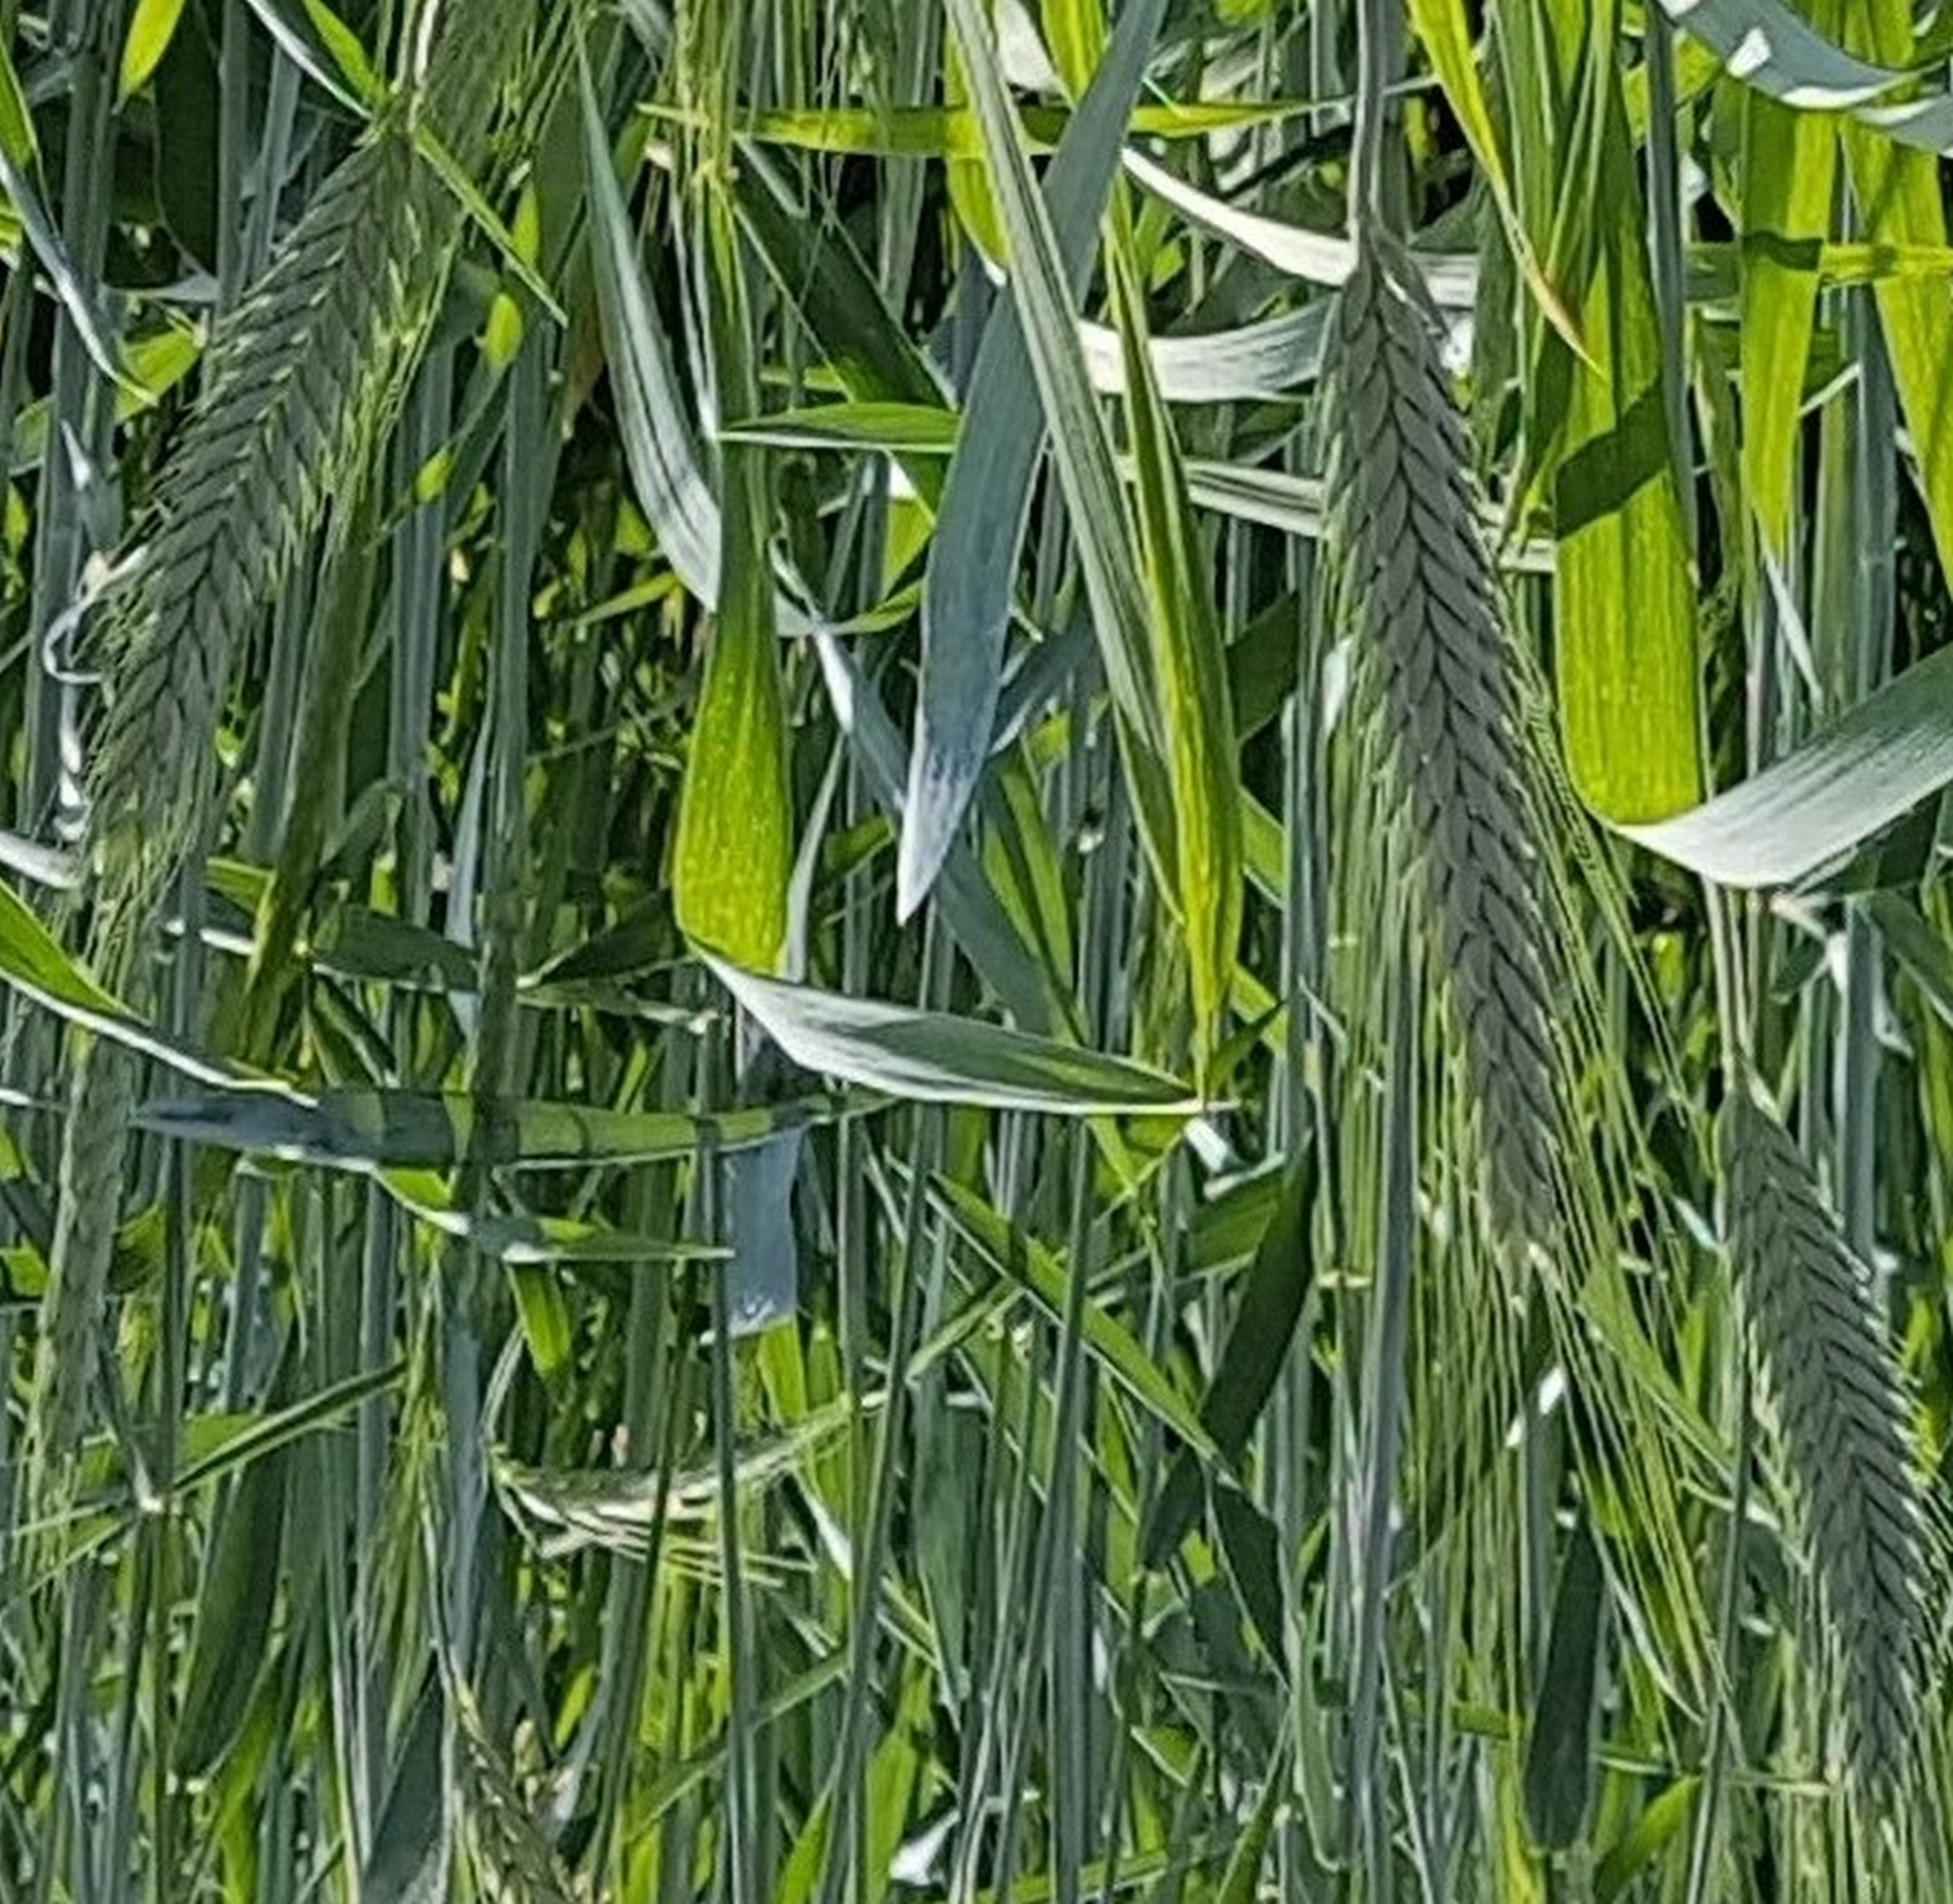Healthy Wheat: (1296, 234, 1632, 1217), (94, 124, 448, 823), (1702, 1081, 1953, 1822)
